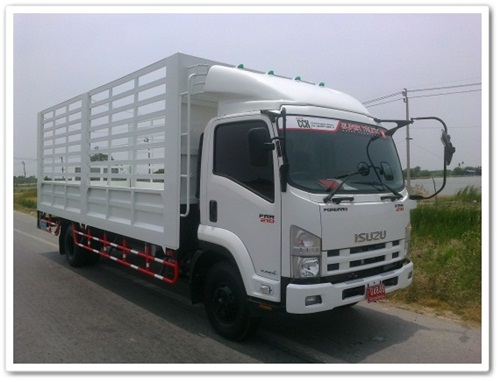truck: (36, 64, 415, 344)
